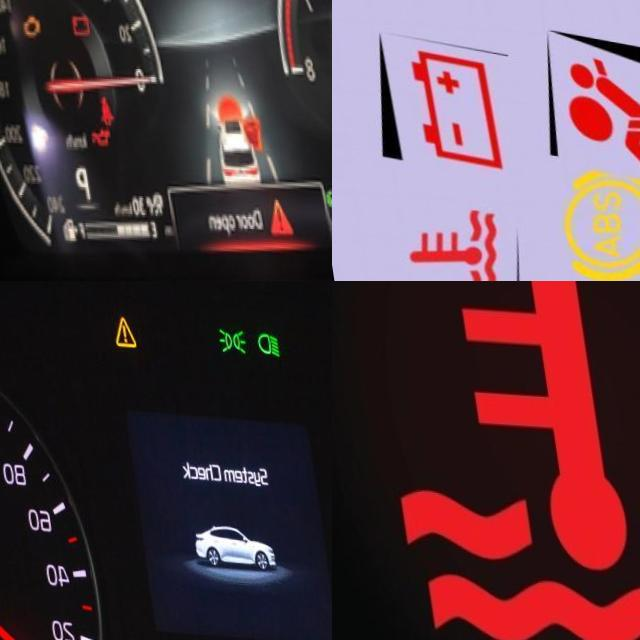Central Warning lamp: (109, 311, 136, 346)
Engine cooling system: (347, 281, 640, 640)
